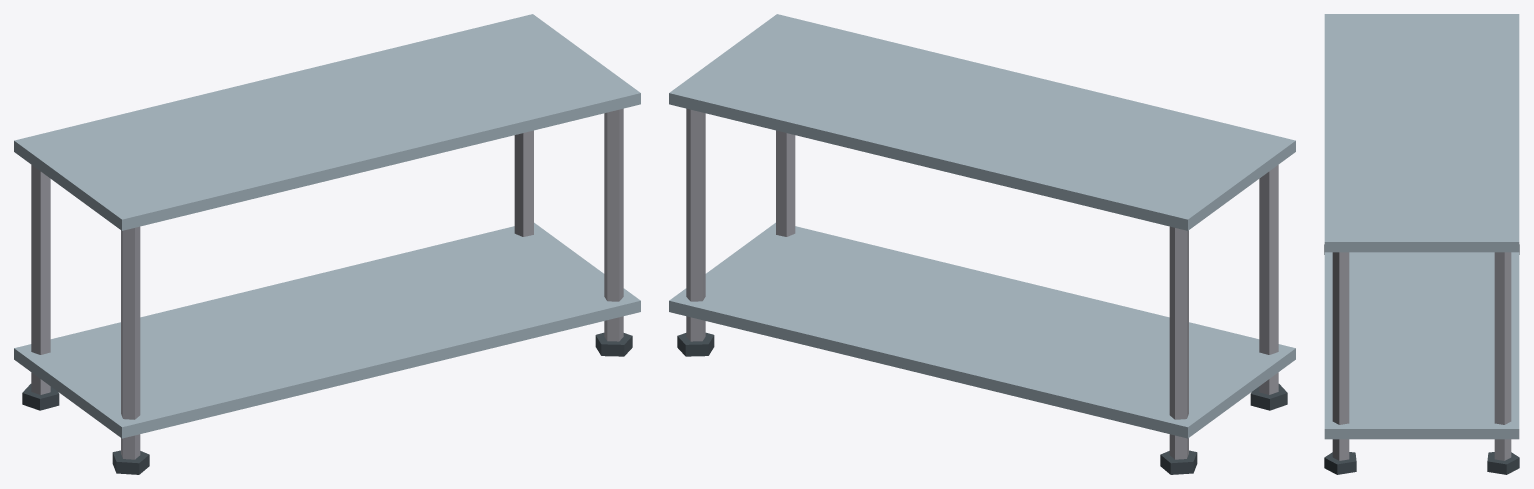
Rendered from Shelf_A_geo.fbx.
3 views of the same model, side by side, from view 1: azimuth 30°, elevation 25°; view 2: azimuth 150°, elevation 25°; view 3: azimuth 270°, elevation 25° (orthographic). The views are drawn at different scales.
Parts seen in each view (by area): view 1: Shelf_A_geo; view 2: Shelf_A_geo; view 3: Shelf_A_geo.
Boxes of the visible parts, left/top/right/bottom form: Shelf_A_geo: left=14, top=14, right=640, bottom=474; Shelf_A_geo: left=669, top=14, right=1295, bottom=474; Shelf_A_geo: left=1324, top=14, right=1519, bottom=474.
Size of the model in its own units: 1.97 by 0.7142 by 0.9411.
